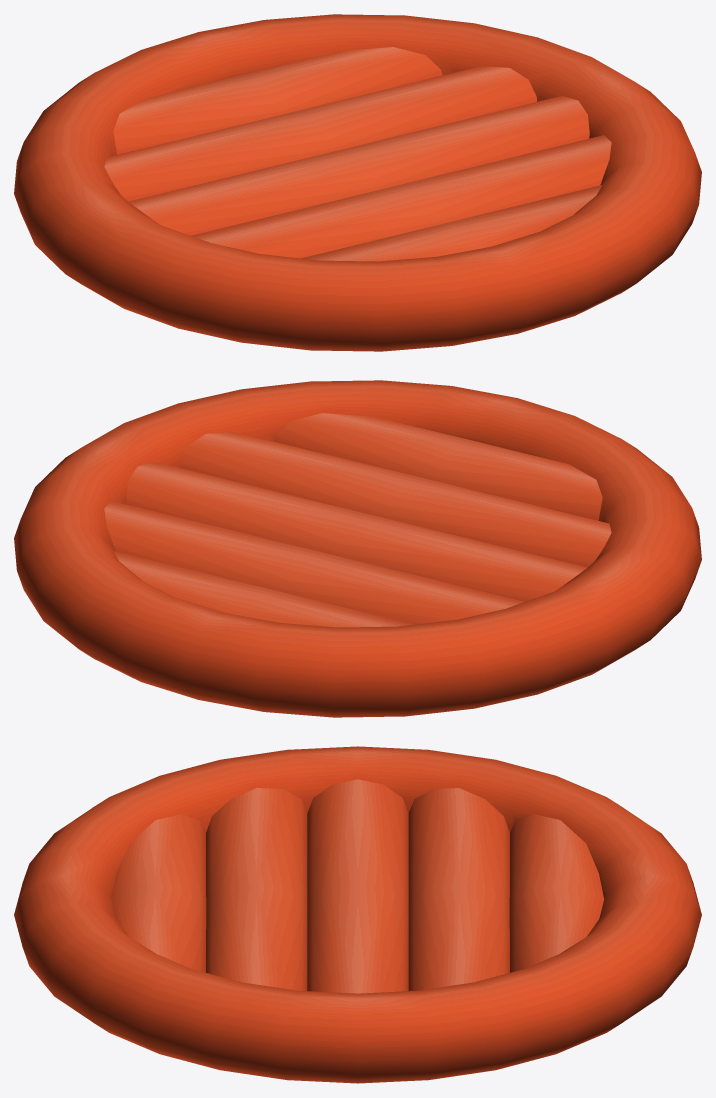
File: tube_round_red.fbx
3 views of the same model, one above another, from view 1: azimuth 30°, elevation 25°; view 2: azimuth 150°, elevation 25°; view 3: azimuth 270°, elevation 25° (orthographic).
Parts seen in each view (by area): view 1: tube_round_red; view 2: tube_round_red; view 3: tube_round_red.
Part boxes in pixels (x1,y1,x2,y2): tube_round_red: (14,14,701,351); tube_round_red: (14,380,701,717); tube_round_red: (14,746,701,1083).
Size of the model in its own units: 80 by 10.09 by 80.
